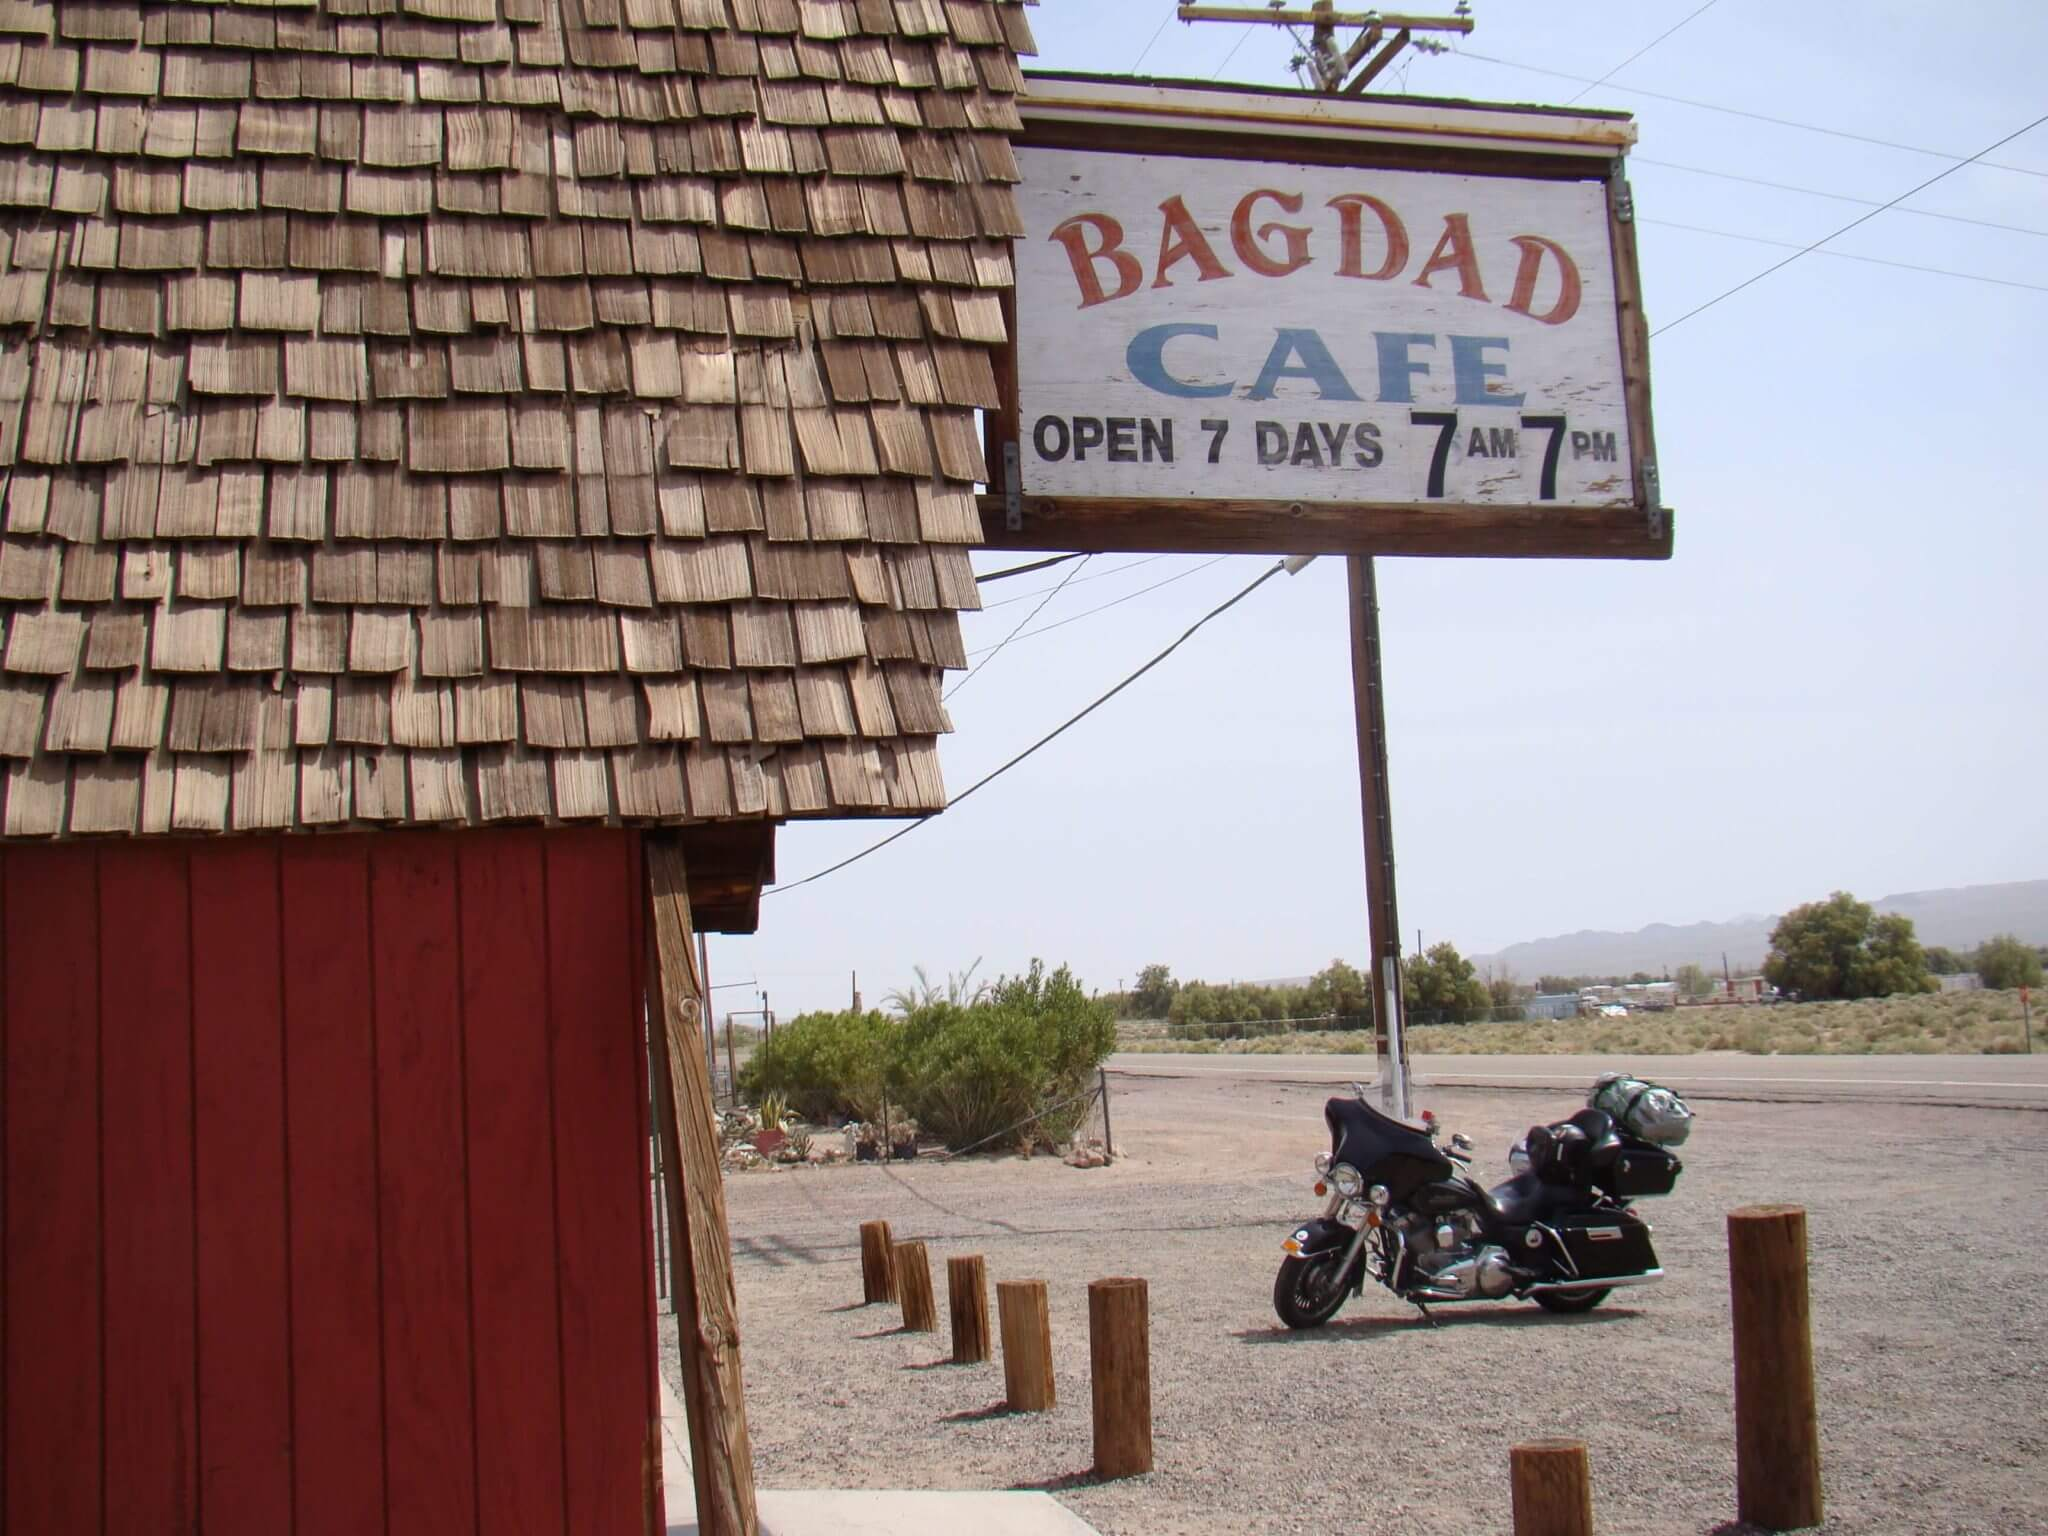Cartel: (1016, 73, 1669, 563)
Muro: (6, 2, 932, 1518)
Vehiculo: (1269, 1083, 1674, 1338)
